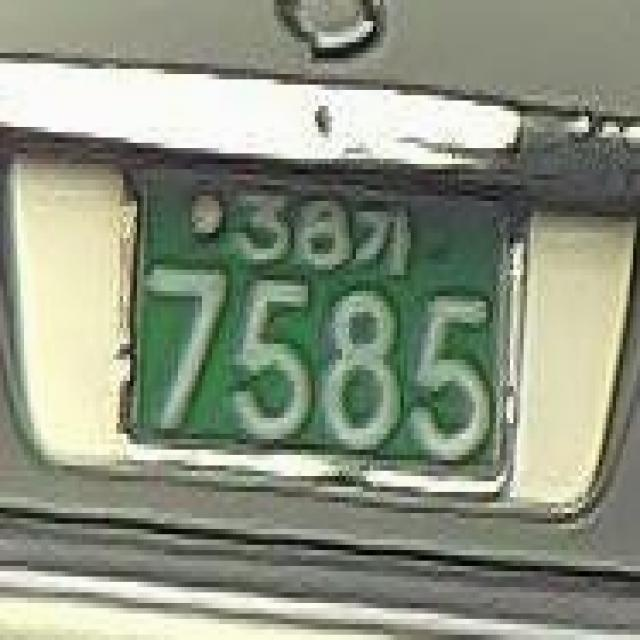illegal_plate: (101, 141, 543, 522)
